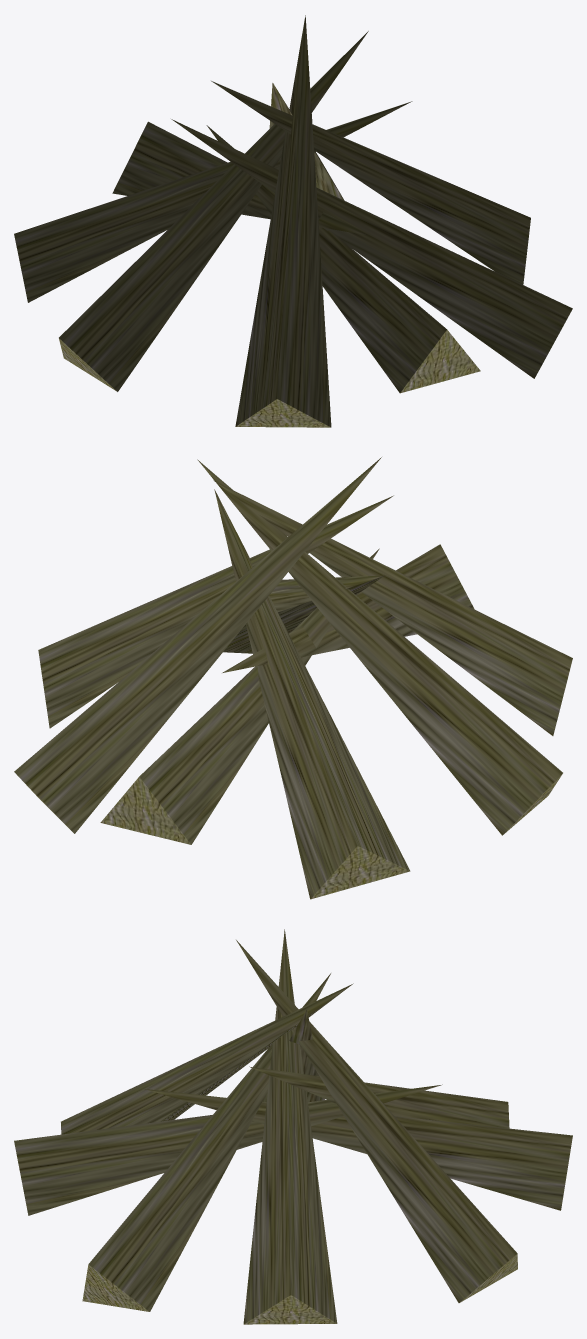
The model's file is fire01.obj.
3 renders of one model, top to bottom at view 1: azimuth 30°, elevation 25°; view 2: azimuth 150°, elevation 25°; view 3: azimuth 270°, elevation 25°, orthographic. The views are drawn at different scales.
Visible parts, largest first — view 1: Duplicate04, Duplicate02, Duplicate01, Box01; view 2: Duplicate04, Duplicate02, Duplicate01, Box01; view 3: Duplicate04, Duplicate02, Box01, Duplicate01.
Boxes of the visible parts, left/top/right/bottom form: Duplicate04: left=59, top=15, right=572, bottom=427; Duplicate02: left=211, top=81, right=530, bottom=284; Duplicate01: left=14, top=101, right=412, bottom=302; Box01: left=112, top=121, right=368, bottom=235; Duplicate04: left=197, top=459, right=572, bottom=835; Duplicate02: left=14, top=457, right=393, bottom=833; Duplicate01: left=214, top=489, right=410, bottom=899; Box01: left=100, top=548, right=379, bottom=844; Duplicate04: left=14, top=973, right=442, bottom=1311; Duplicate02: left=236, top=929, right=517, bottom=1324; Box01: left=144, top=1089, right=572, bottom=1210; Duplicate01: left=249, top=1066, right=509, bottom=1128.
Size of the model in its own units: 17.61 by 10.02 by 18.4.
